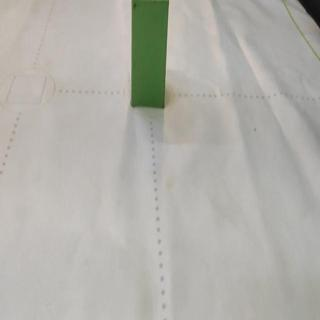greenbox: (129, 0, 170, 109)
